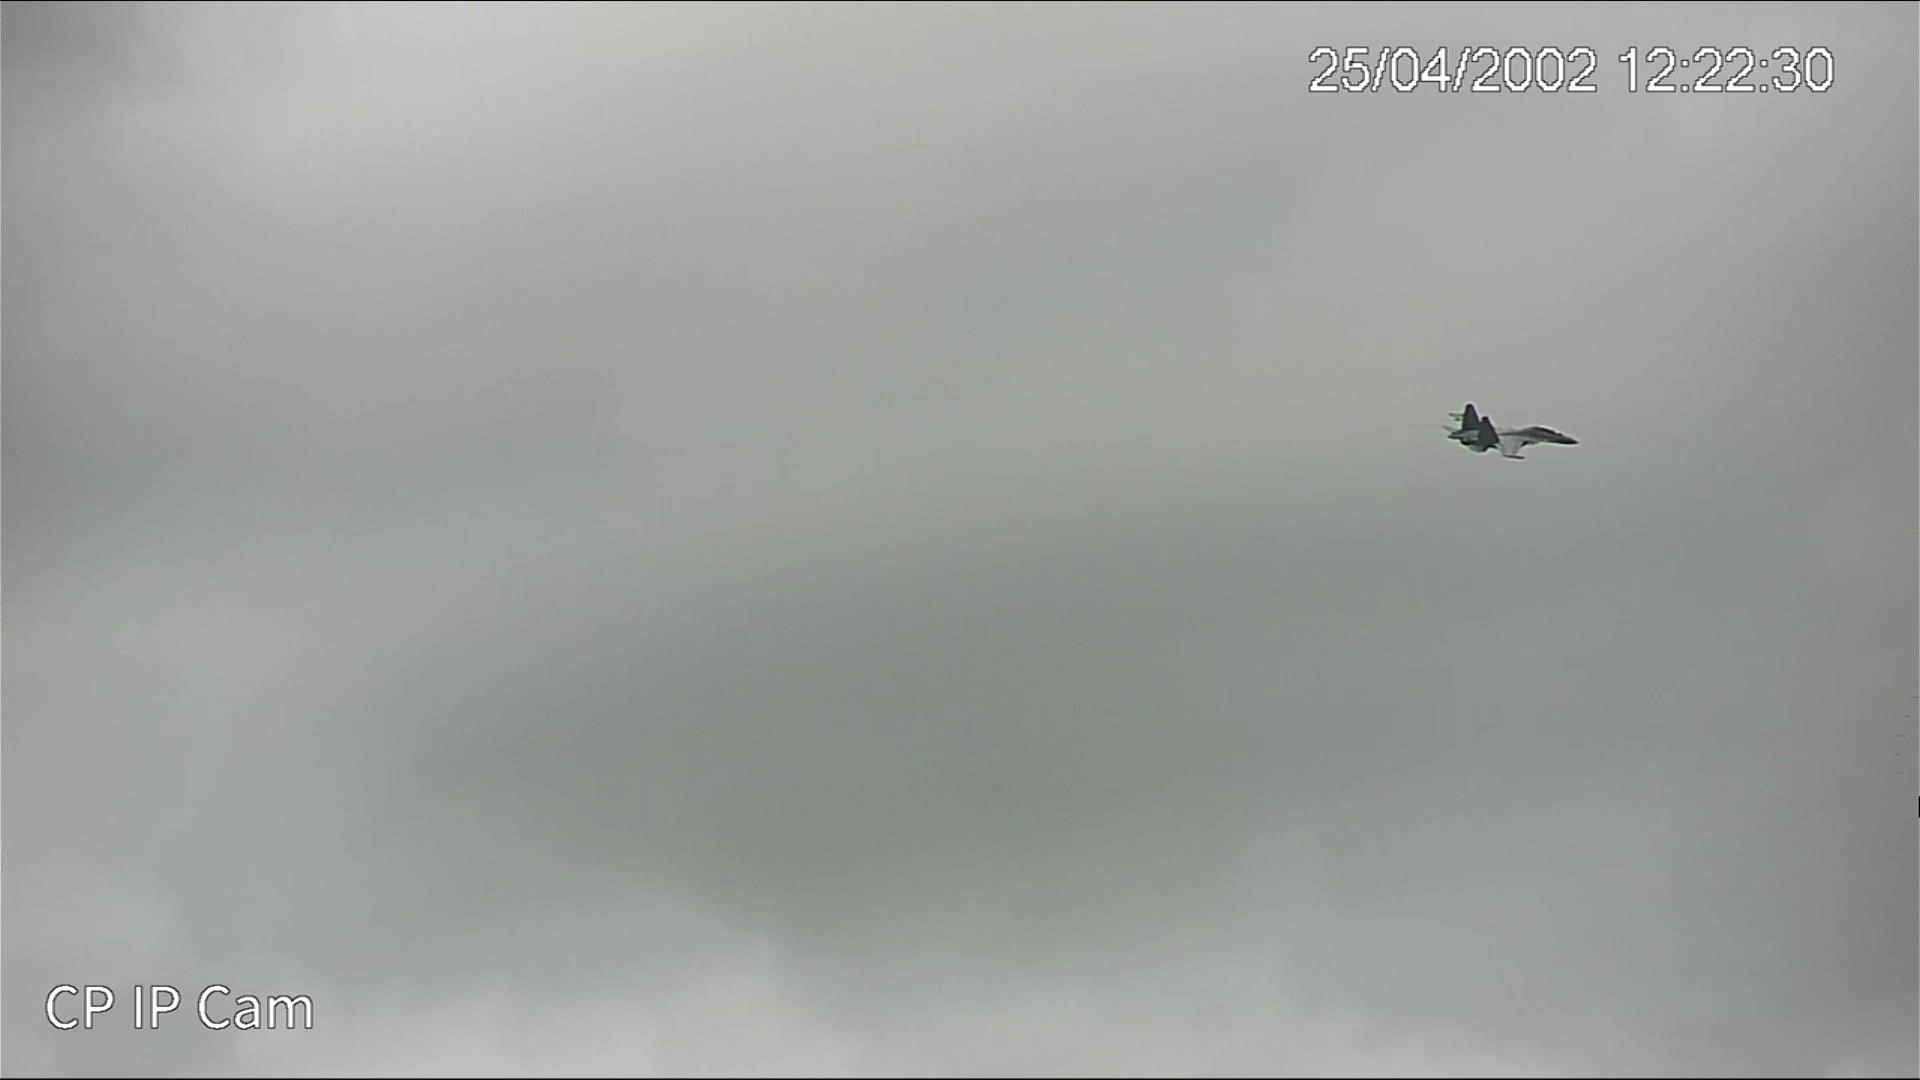SU_30: (1443, 398, 1584, 473)
